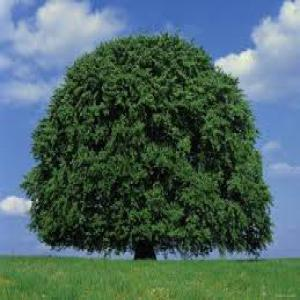Tree: (23, 28, 272, 258)
